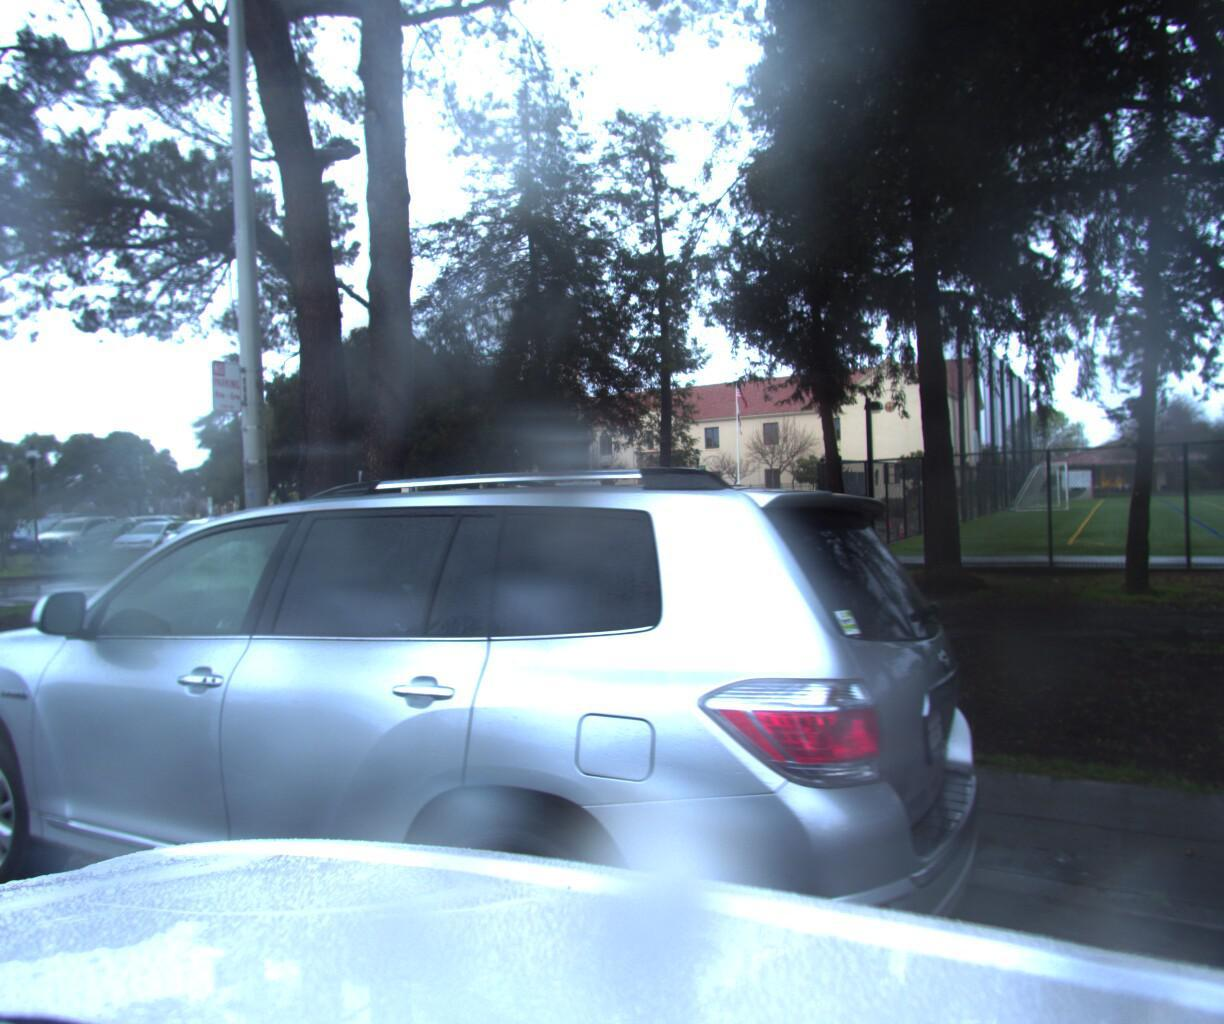car: (0, 416, 1005, 1024)
